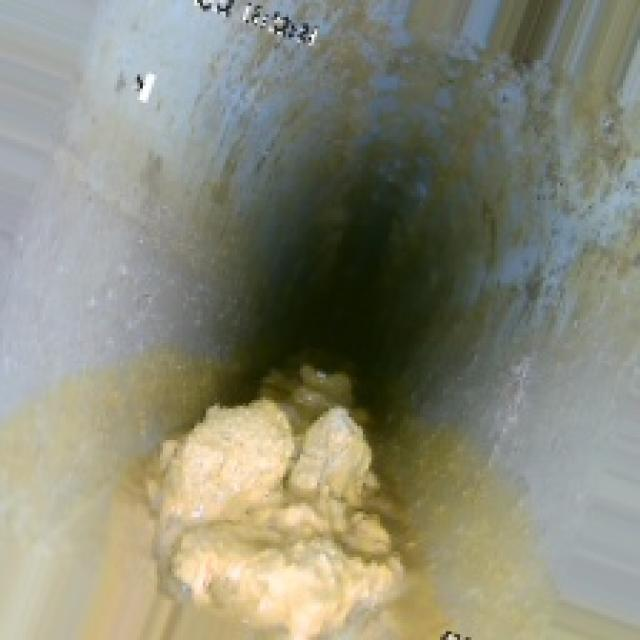sluge accumulation: (140, 349, 414, 617)
